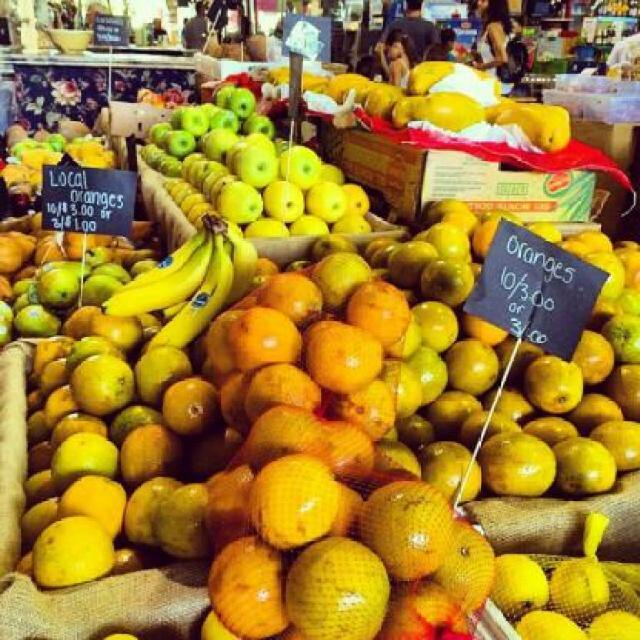Orange: (308, 323, 390, 395), (540, 432, 616, 506), (478, 430, 560, 498), (448, 336, 510, 404), (231, 304, 303, 362), (347, 280, 407, 343), (421, 438, 472, 512), (411, 300, 469, 356), (526, 350, 577, 407), (595, 413, 639, 479), (268, 271, 322, 320), (322, 250, 367, 308), (573, 327, 619, 379), (434, 389, 476, 431), (575, 220, 619, 252), (466, 411, 522, 435), (580, 387, 616, 424), (624, 236, 640, 288), (0, 231, 18, 270)
